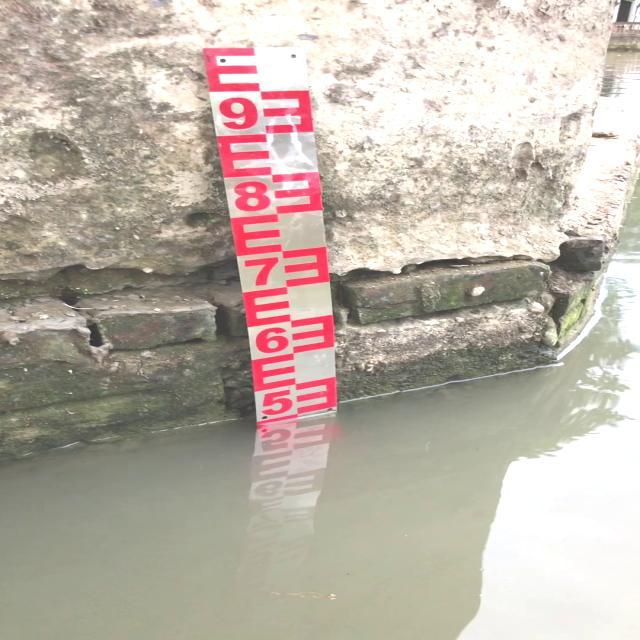ruler: (194, 38, 351, 426)
value: (222, 175, 278, 219), (212, 91, 266, 135), (236, 252, 288, 290), (248, 324, 294, 361), (256, 386, 296, 419)
